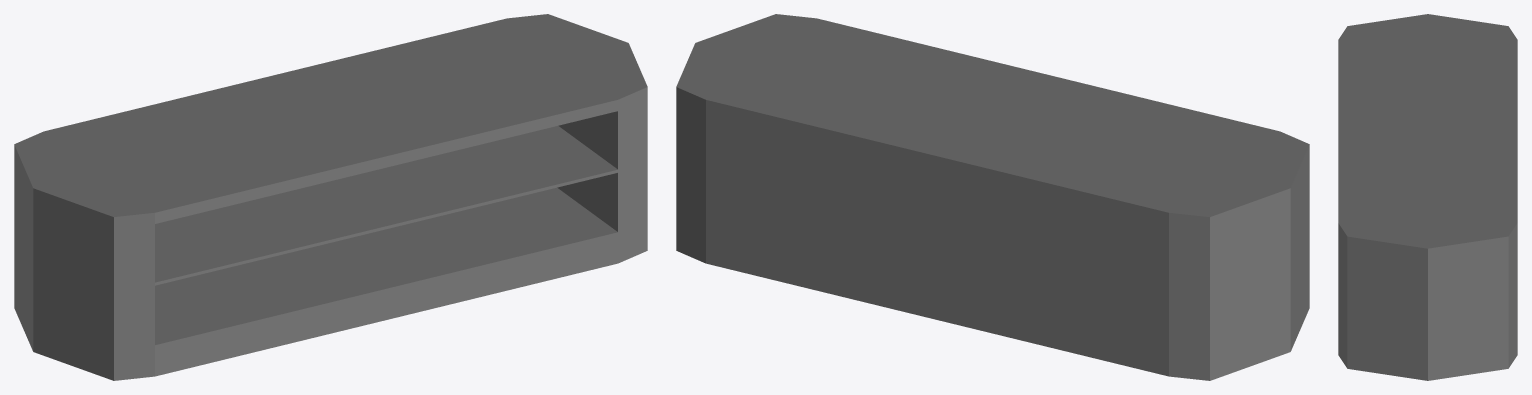
Rendered from Bedroom_Prop_SmallShelve.fbx.
3 views of the same model, side by side, from view 1: azimuth 30°, elevation 25°; view 2: azimuth 150°, elevation 25°; view 3: azimuth 270°, elevation 25° (orthographic). The views are drawn at different scales.
Visible parts, largest first — view 1: Cube.005; view 2: Cube.005; view 3: Cube.005.
Part boxes in pixels (bbox=[...]): Cube.005: bbox=[14, 14, 647, 380]; Cube.005: bbox=[676, 14, 1309, 380]; Cube.005: bbox=[1338, 14, 1517, 380].
Size of the model in its own units: 400 by 105 by 129.
